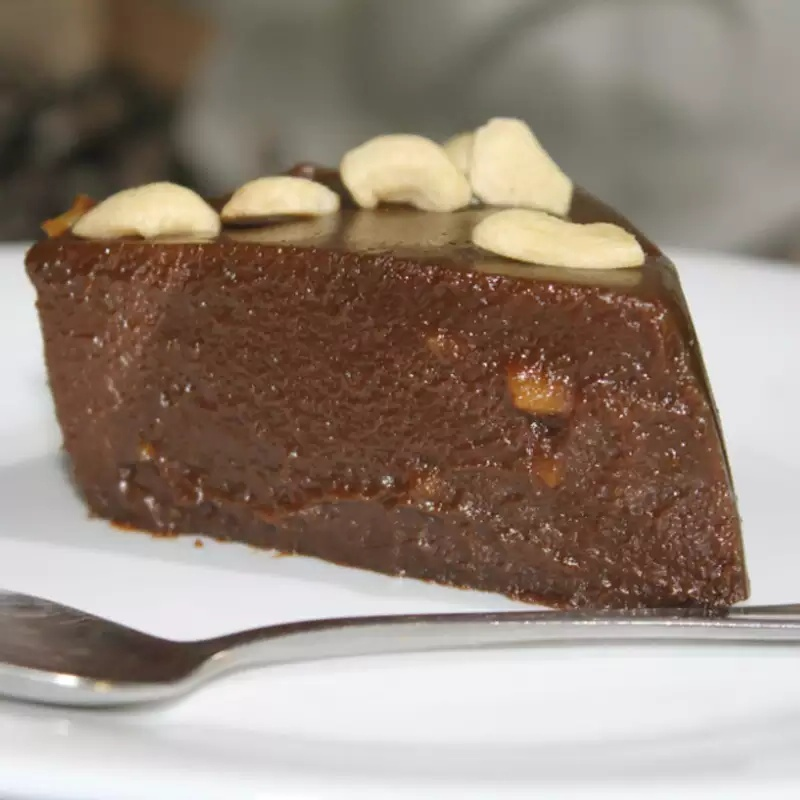dodol: (28, 110, 752, 614)
